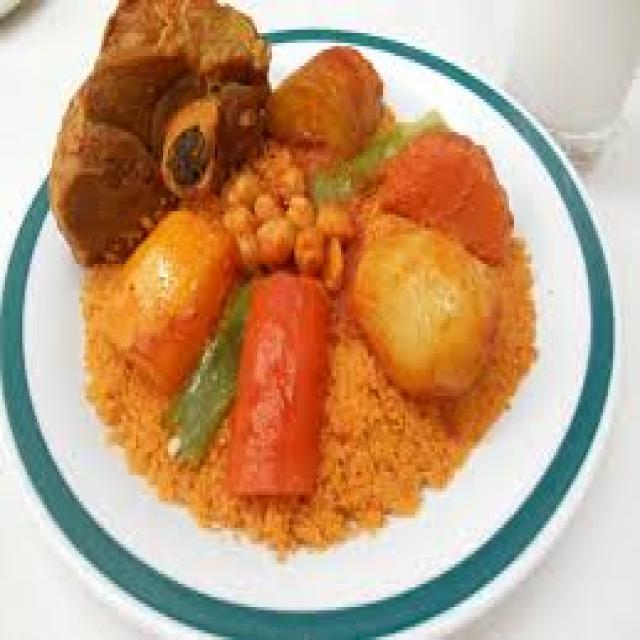Couscous: (50, 0, 535, 550)
